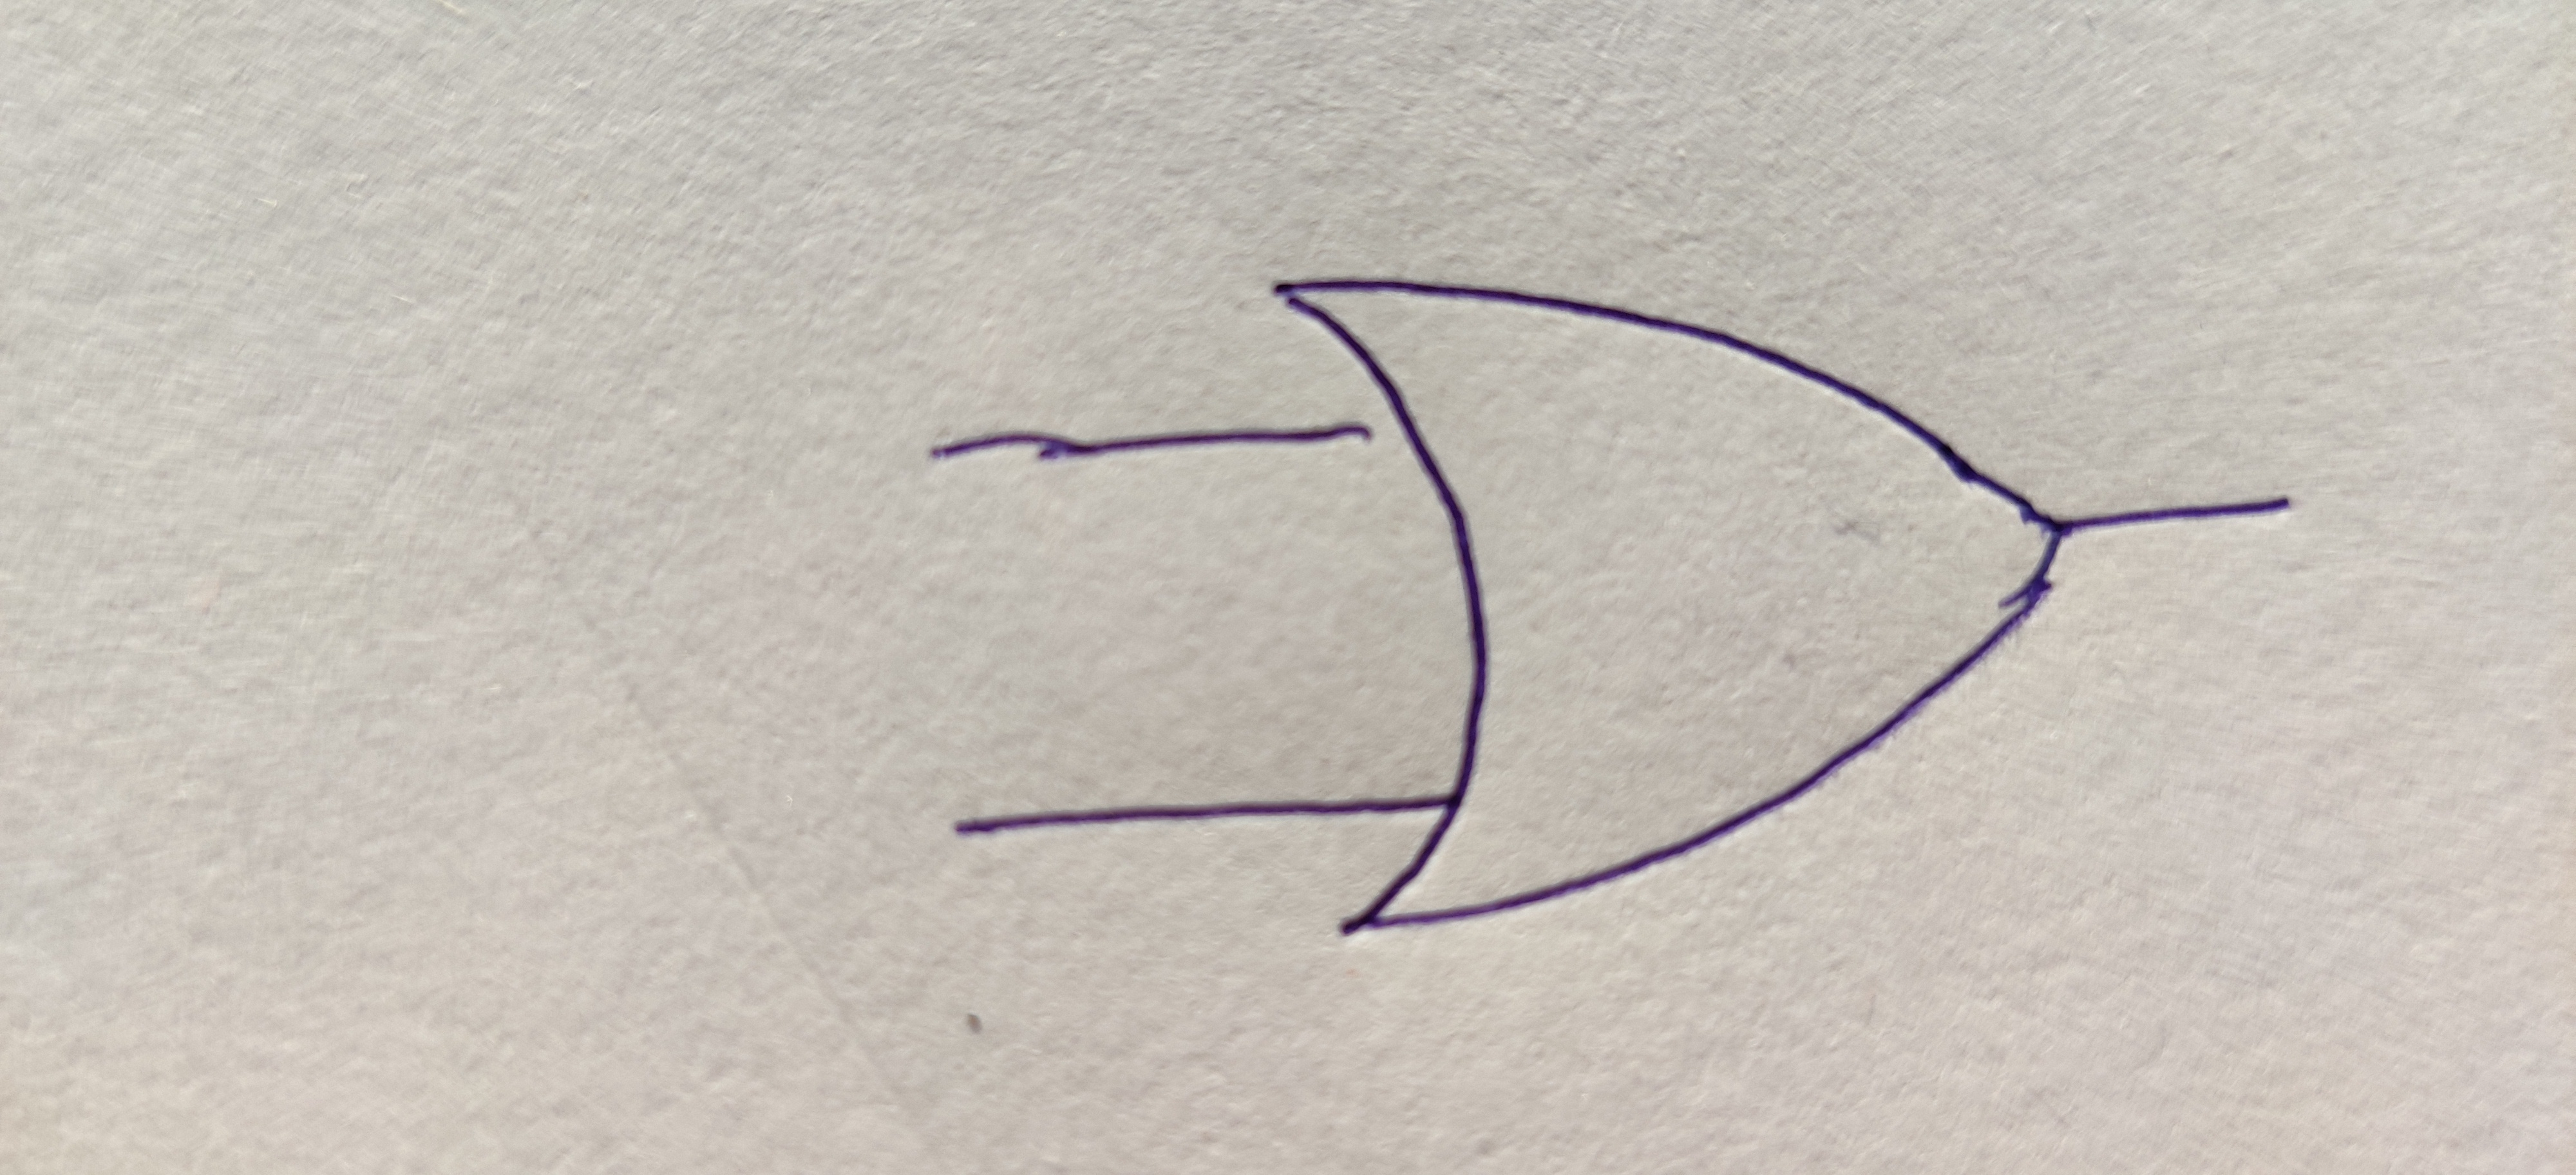or: (1276, 279, 2068, 927)
